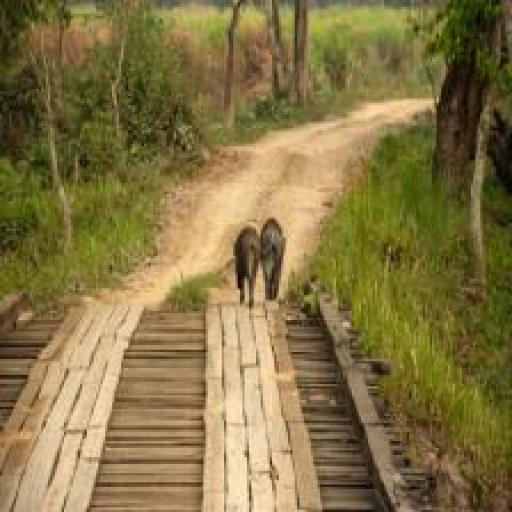Pig: (235, 217, 294, 306)
